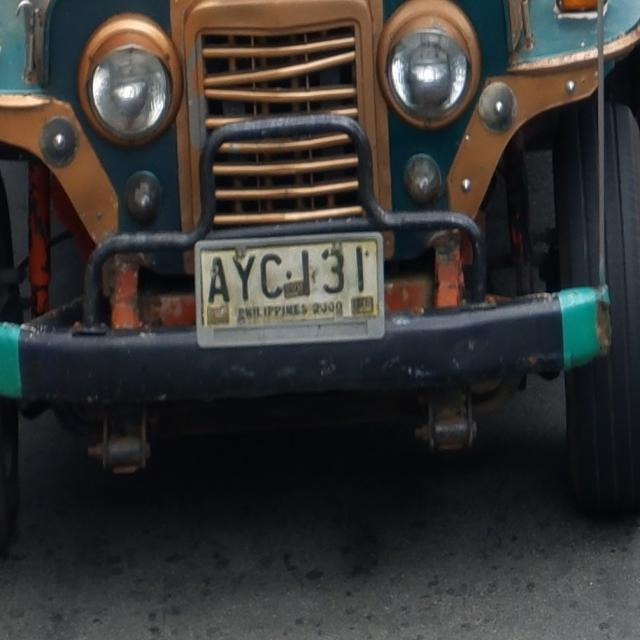LicensePlate: (181, 230, 397, 350)
